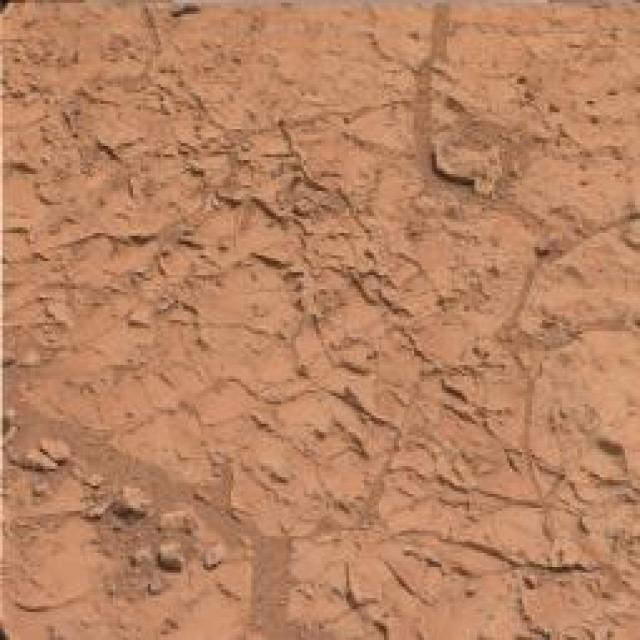rock: (434, 142, 502, 186), (113, 488, 155, 518), (160, 509, 196, 536), (22, 450, 58, 476), (35, 439, 70, 464), (157, 544, 182, 576), (206, 543, 227, 568)
